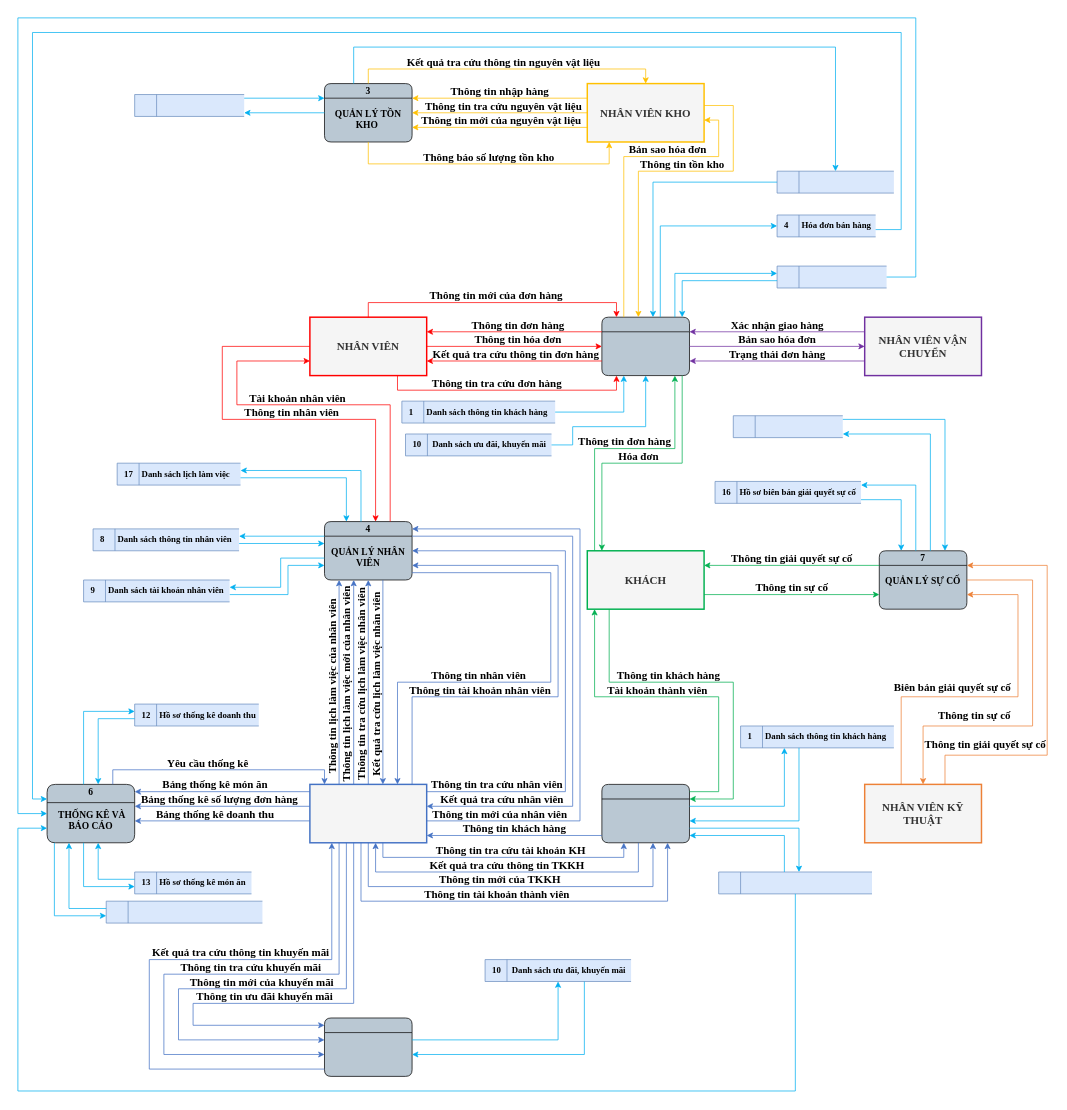
Some shapes in this 1067 by 1110 pixel diagram are drawn without their labels. Here are the shapes that lost their labels. From the top down, the centre of each, then its label:
pixel 189 105: 7 Kho nguyên vật liệu
pixel 835 181: 3 Danh sách các món ăn
pixel 831 276: 5 Danh sách đơn hàng
pixel 645 346: 2 QUẢN LÝ ĐƠN HÀNG
pixel 788 426: 15 Hồ sơ báo cáo sự cố
pixel 368 813: NHÂN VIÊN QUẢN LÝ
pixel 645 813: 1 QUẢN LÝ TÀI KHOẢN KHÁCH HÀNG
pixel 795 882: 2 Danh sách tài khoản khách hàng
pixel 183 911: 14 Hồ sơ thống kê số lượng đơn hàng
pixel 368 1046: 5 QUẢN LÝ KHUYẾN MÃI
